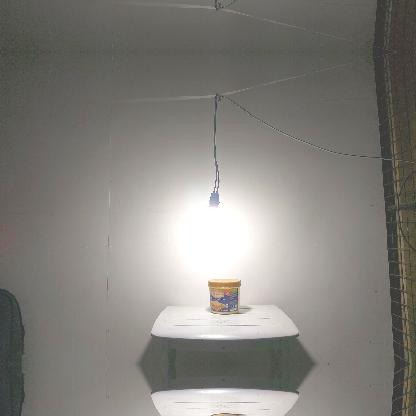Lady-s-Choice: (207, 278, 240, 314)
